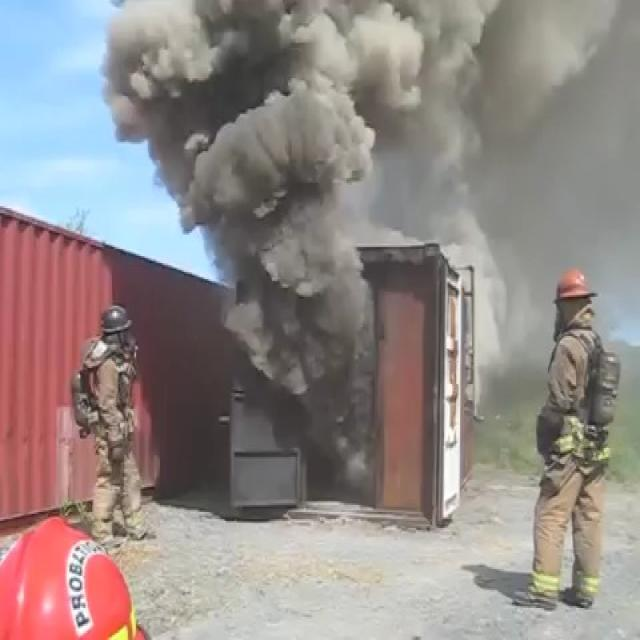Smoke: (116, 0, 382, 482)
